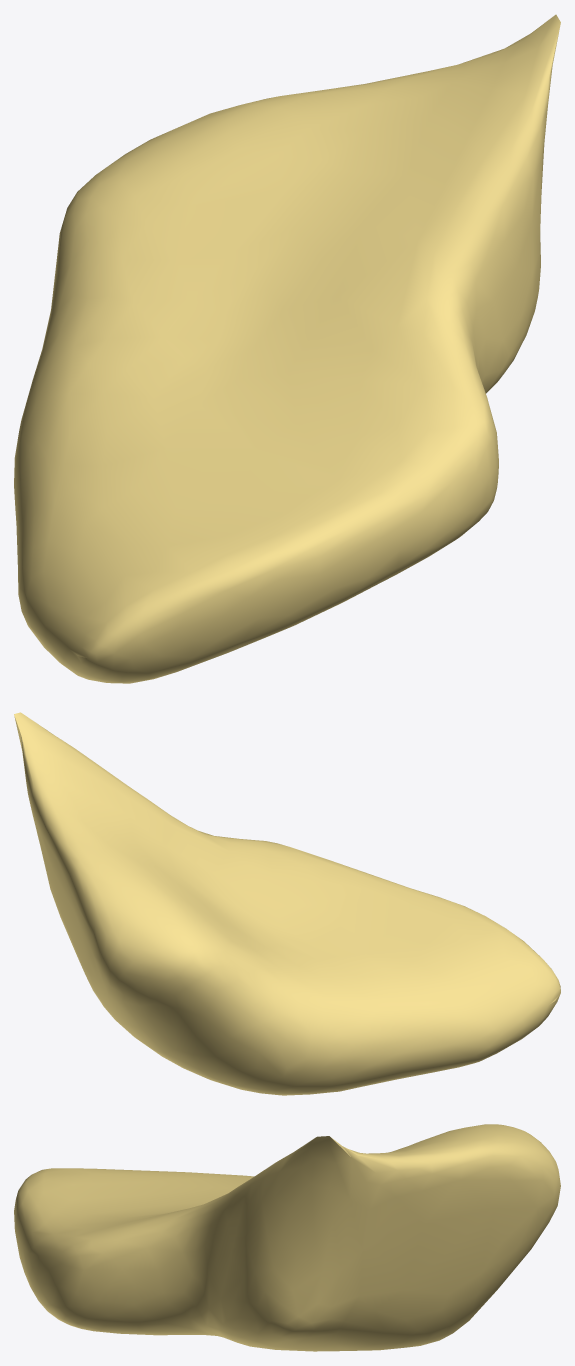
Rendered from fma73082_mm2792.glb.
3 renders of one model, top to bottom at view 1: azimuth 30°, elevation 25°; view 2: azimuth 150°, elevation 25°; view 3: azimuth 270°, elevation 25°, orthographic. The views are drawn at different scales.
Visible parts, largest first — view 1: FMA73082_MM2792; view 2: FMA73082_MM2792; view 3: FMA73082_MM2792.
Boxes of the visible parts, box(x1,y1,x2,y2) form: FMA73082_MM2792: box(14, 14, 560, 683); FMA73082_MM2792: box(14, 712, 560, 1095); FMA73082_MM2792: box(14, 1124, 560, 1351).
Bounding box in the file's own units: 0.00939 × 0.00606 × 0.00834.
